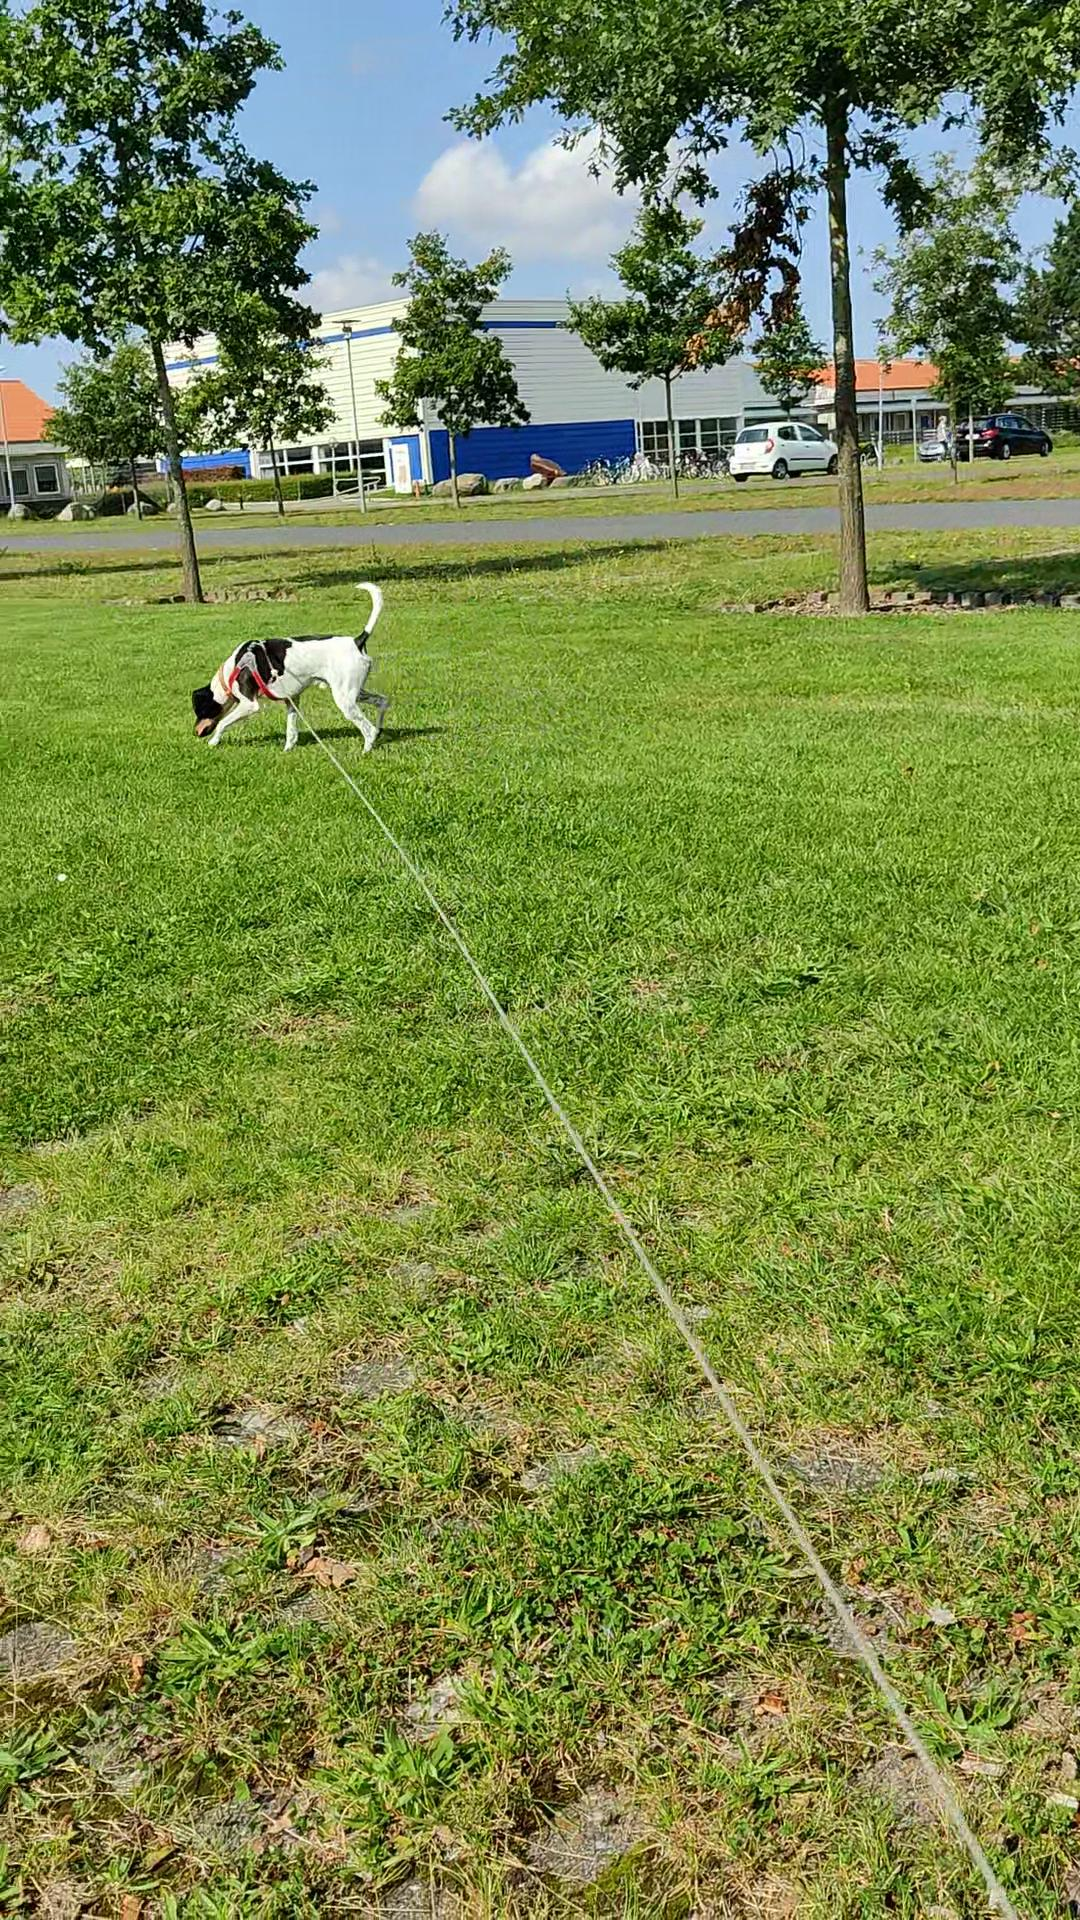Dog: (189, 575, 388, 758)
